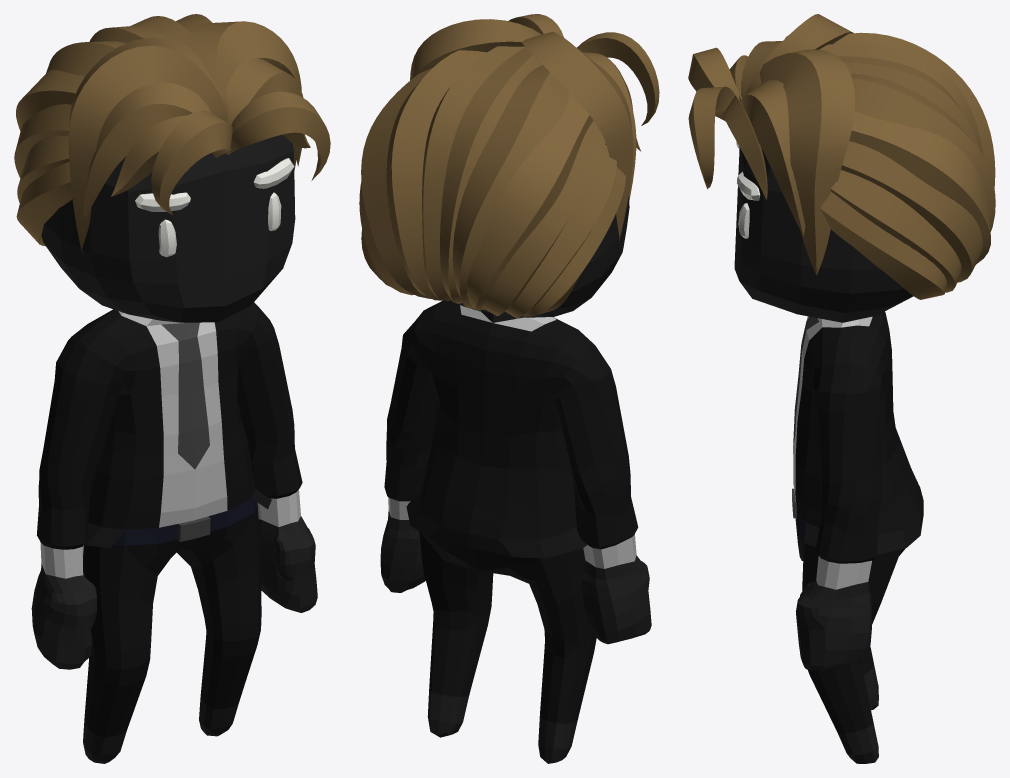
File: suit-male-c5a6b35c8e.glb
3 views of the same model, side by side, from view 1: azimuth 30°, elevation 25°; view 2: azimuth 150°, elevation 25°; view 3: azimuth 270°, elevation 25° (orthographic). The views are drawn at different scales.
Parts seen in each view (by area): view 1: Suit_Male.obj; view 2: Suit_Male.obj; view 3: Suit_Male.obj.
Boxes of the visible parts, x1=… form: Suit_Male.obj: x1=14, y1=14, x2=330, y2=763; Suit_Male.obj: x1=359, y1=14, x2=659, y2=763; Suit_Male.obj: x1=688, y1=14, x2=995, y2=763.
Bounding box in the file's own units: 1.28 × 3.29 × 1.31.
